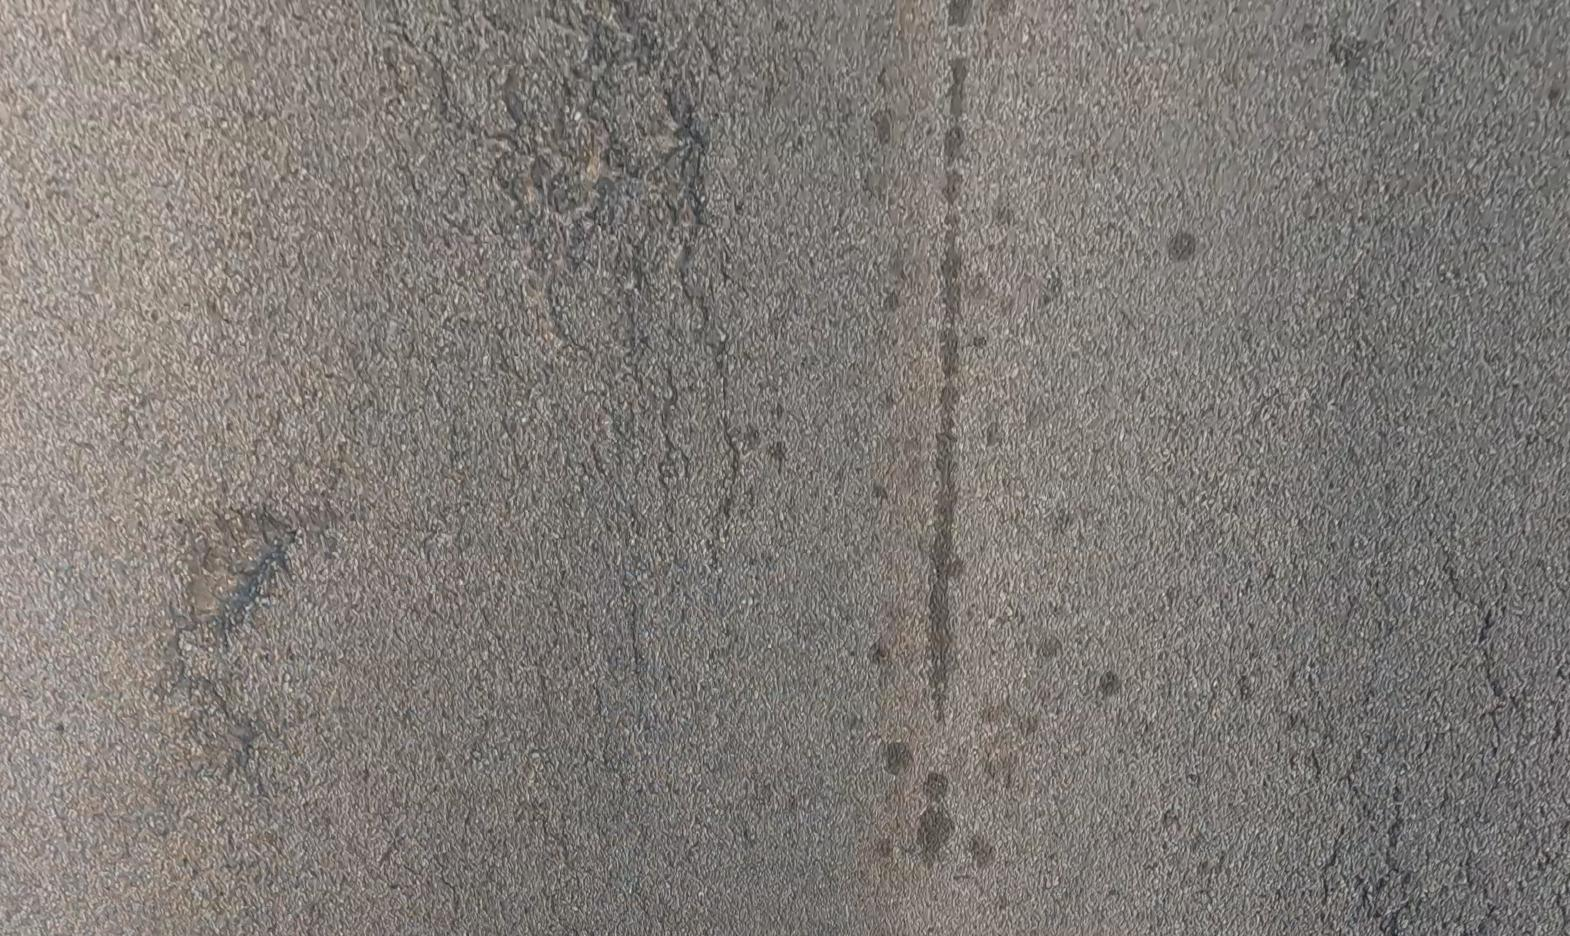pothole: (163, 503, 291, 644), (188, 715, 259, 793)
